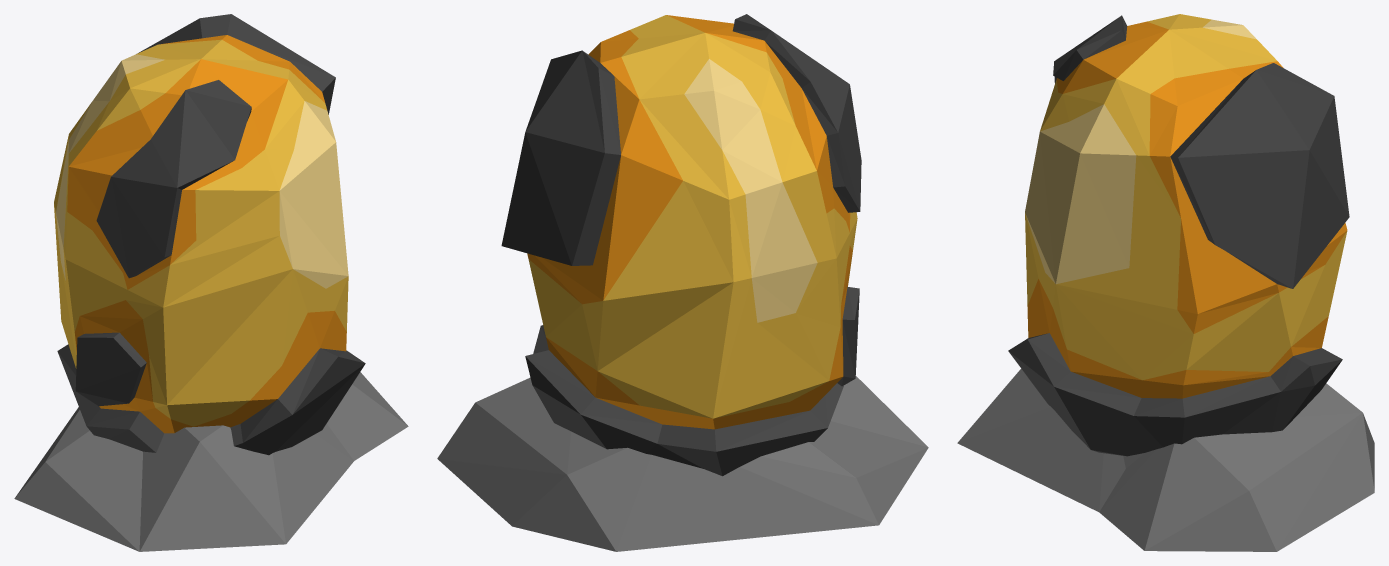
File: Stone_Yellow_A_01.FBX
3 renders of one model, left to right at view 1: azimuth 30°, elevation 25°; view 2: azimuth 150°, elevation 25°; view 3: azimuth 270°, elevation 25°, orthographic. The views are drawn at different scales.
Parts seen in each view (by area): view 1: Stone_Yellow_A_01; view 2: Stone_Yellow_A_01; view 3: Stone_Yellow_A_01.
Boxes of the visible parts, <box> form: Stone_Yellow_A_01: <box>14,14,408,551</box>; Stone_Yellow_A_01: <box>437,14,928,551</box>; Stone_Yellow_A_01: <box>957,14,1374,551</box>.
Bounding box in the file's own units: 2.97 × 3.11 × 2.78.
